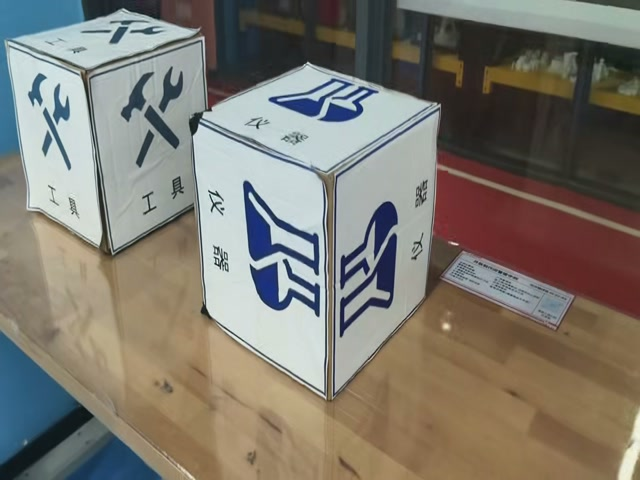Cube_ins: (193, 63, 440, 180)
Cube_tool: (8, 9, 205, 76)
